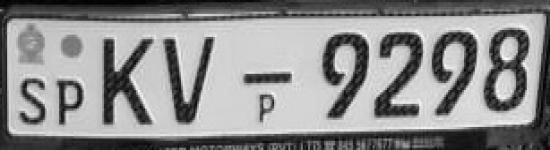-: (238, 70, 296, 87)
2: (375, 22, 427, 125)
8: (481, 22, 534, 118)
9: (318, 24, 374, 129), (426, 19, 481, 121)
K: (99, 32, 160, 135)
P: (54, 73, 87, 132)
S: (15, 70, 52, 128)
V: (161, 33, 226, 133)
